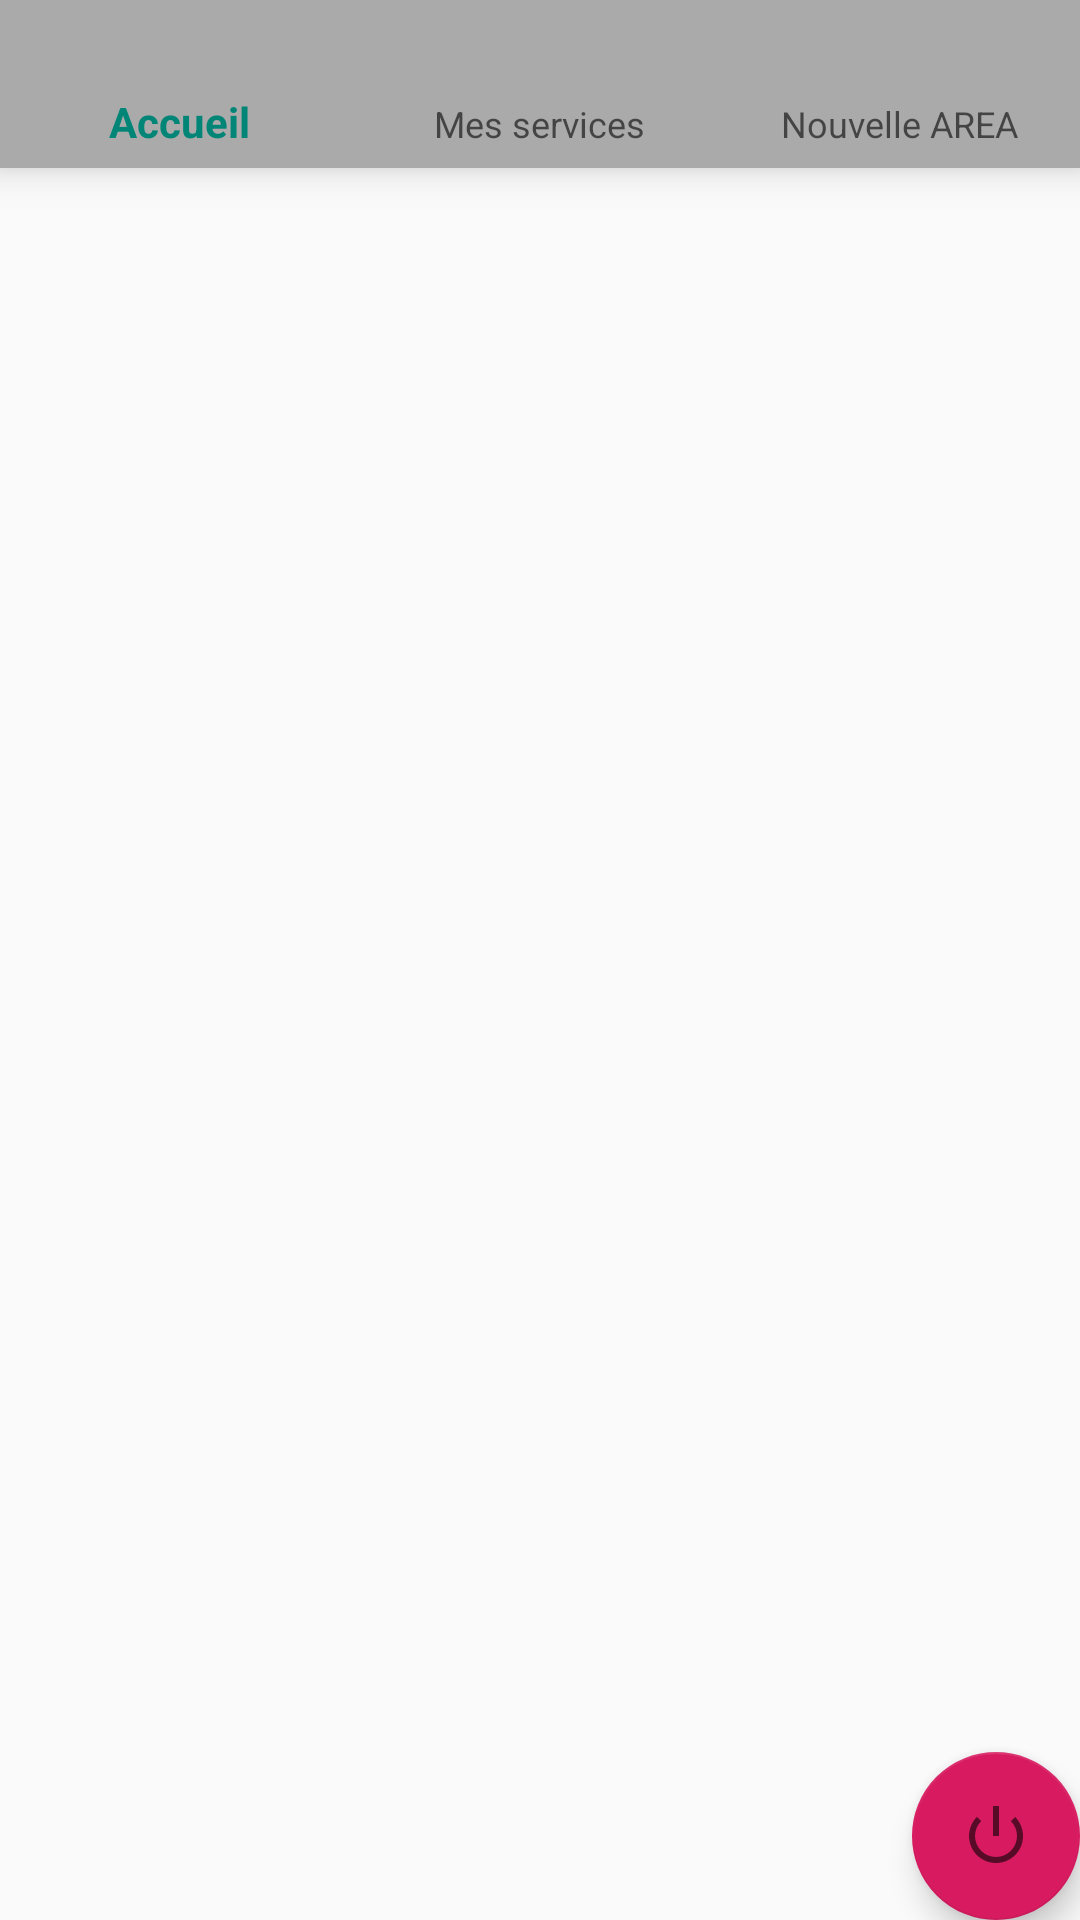

Icon click points for this 1080×1920 phone screenshot, format point (x, y):
lock power off: point (996, 1836)
